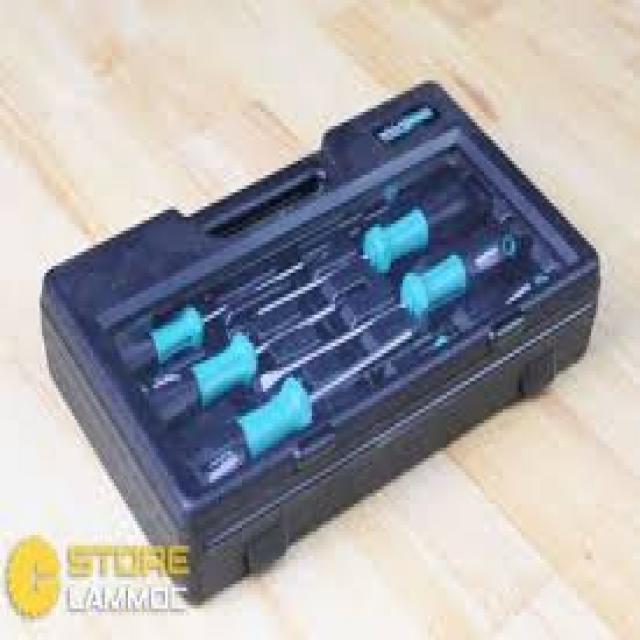screwdriver: (252, 224, 518, 392), (181, 318, 426, 497), (142, 280, 366, 434), (251, 178, 470, 326), (121, 234, 342, 374)
